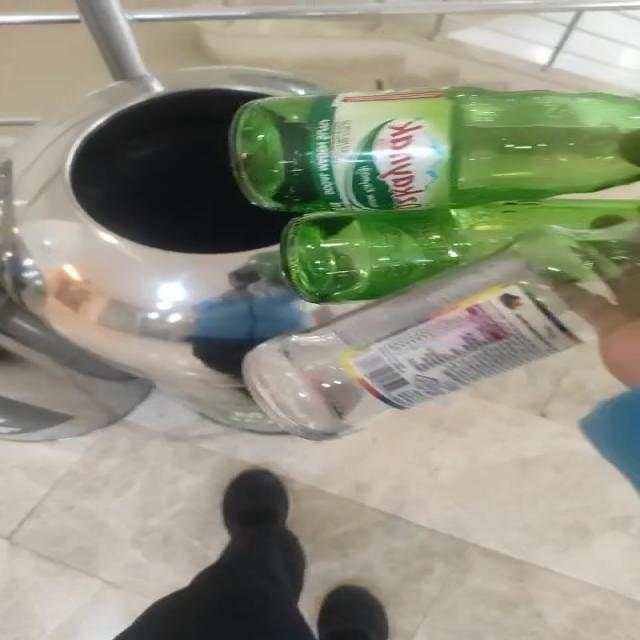glass: (231, 86, 639, 440)
